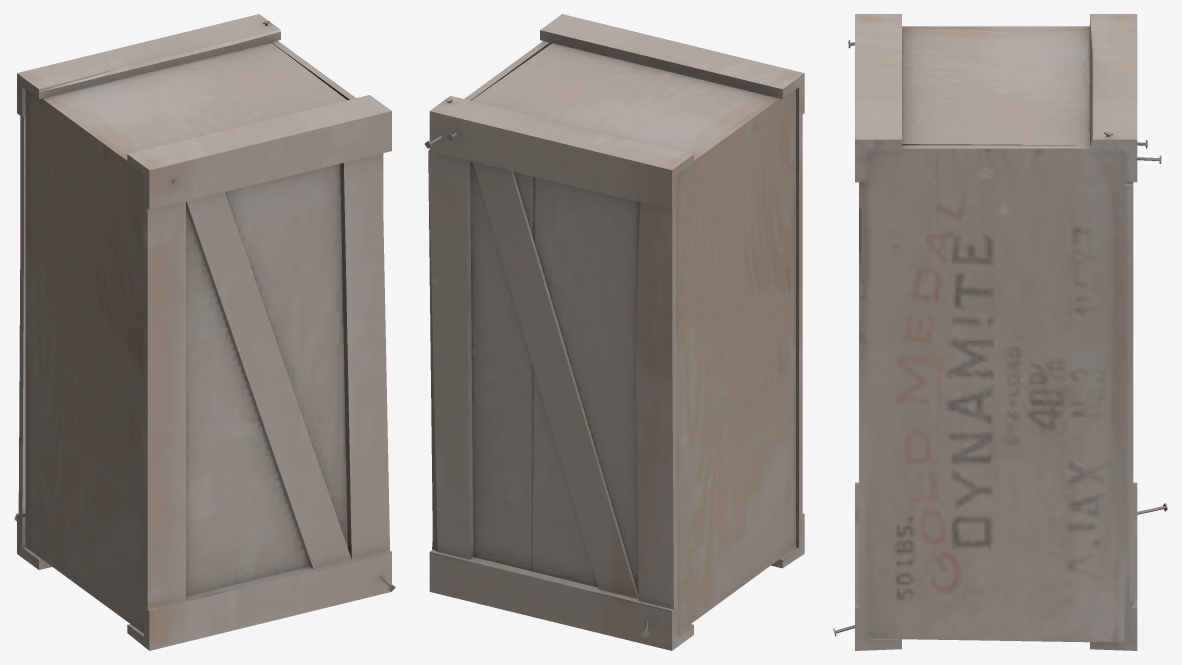
File: props_2fort_miningcrate001.glb
3 renders of one model, left to right at view 1: azimuth 30°, elevation 25°; view 2: azimuth 150°, elevation 25°; view 3: azimuth 270°, elevation 25°, orthographic. The views are drawn at different scales.
Visible parts, largest first — view 1: models/props_2fort/miningcrate001; view 2: models/props_2fort/miningcrate001; view 3: models/props_2fort/miningcrate001.
Part boxes in pixels (box(x1,y1,x2,y2)): models/props_2fort/miningcrate001: box(14, 14, 395, 650); models/props_2fort/miningcrate001: box(424, 14, 804, 650); models/props_2fort/miningcrate001: box(833, 14, 1167, 650).
Size of the model in its own units: 38.75 by 72.59 by 42.76.
1 material, 1 textured.
